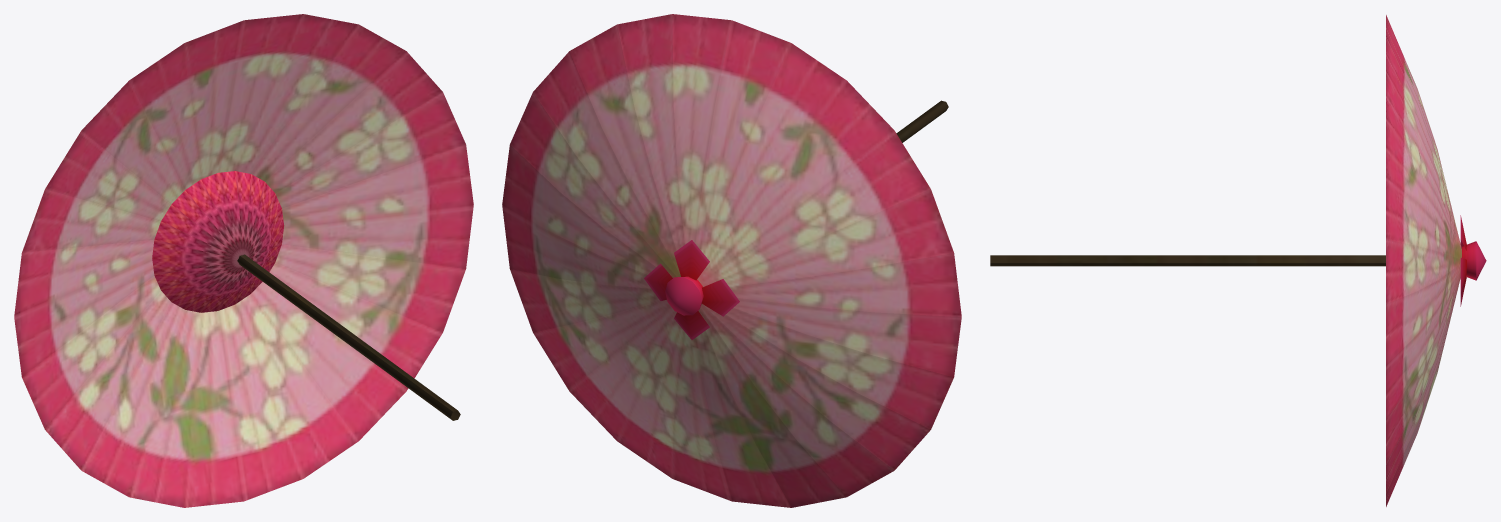
Rendered from sword_l_kasa_kasa.glb.
3 views of the same model, side by side, from view 1: azimuth 30°, elevation 25°; view 2: azimuth 150°, elevation 25°; view 3: azimuth 270°, elevation 25° (orthographic). The views are drawn at different scales.
Size of the model in its own units: 1.17 by 1.17 by 1.17.
1 material, 1 textured.
